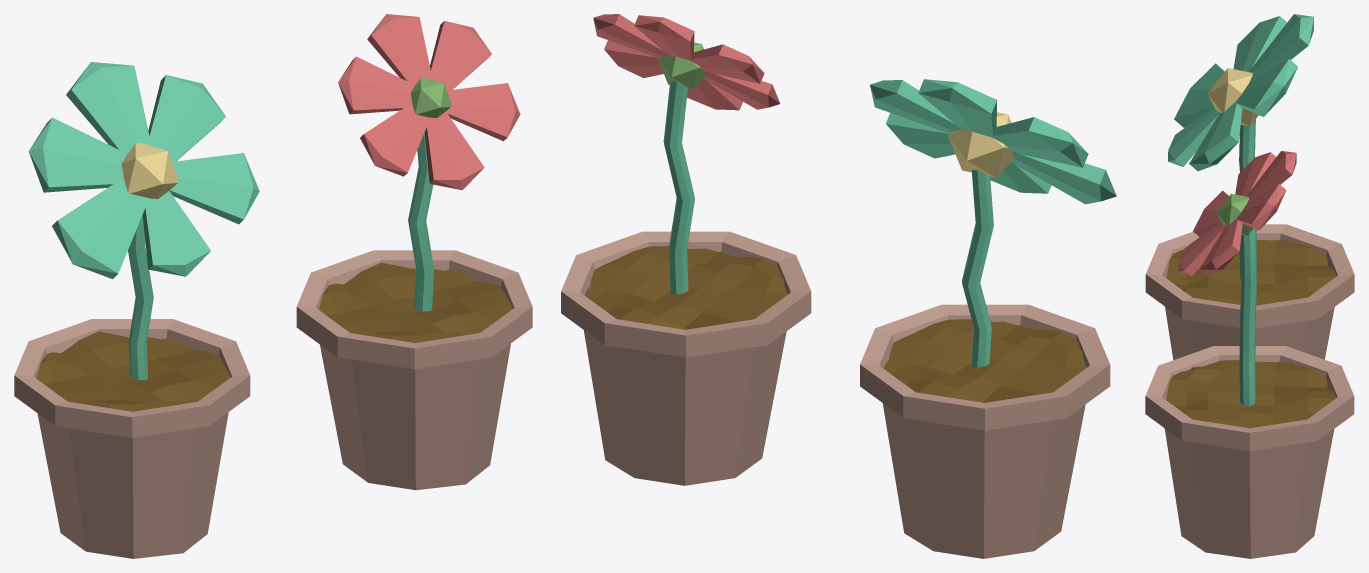
File: Plant.fbx
The picture shows the model from 3 angles, left to right: view 1: azimuth 30°, elevation 25°; view 2: azimuth 150°, elevation 25°; view 3: azimuth 270°, elevation 25°; orthographic projection. The views are drawn at different scales.
Visible parts, largest first — view 1: green_flower, red_flower; view 2: green_flower, red_flower; view 3: red_flower, green_flower.
Part boxes in pixels (left/top/right/bottom): green_flower: left=14, top=62, right=259, bottom=558; red_flower: left=296, top=14, right=532, bottom=490; green_flower: left=860, top=79, right=1116, bottom=558; red_flower: left=561, top=14, right=811, bottom=485; red_flower: left=1145, top=151, right=1354, bottom=558; green_flower: left=1145, top=14, right=1354, bottom=359.
Bounding box in the file's own units: 3.71 × 3.23 × 1.57.
